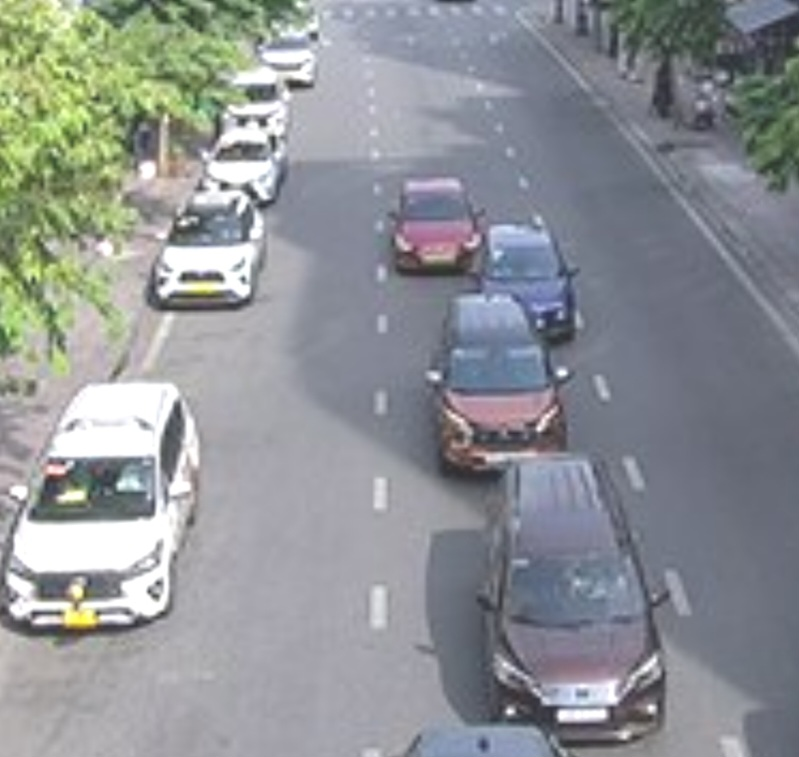car: (471, 462, 664, 743), (7, 379, 200, 636), (432, 296, 569, 467), (157, 191, 264, 314), (478, 221, 577, 330), (389, 171, 483, 275), (202, 131, 286, 203), (218, 72, 294, 133), (258, 31, 323, 84)
